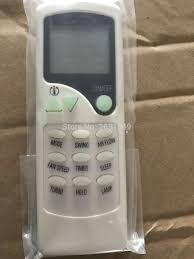remote control: (31, 5, 123, 251)
